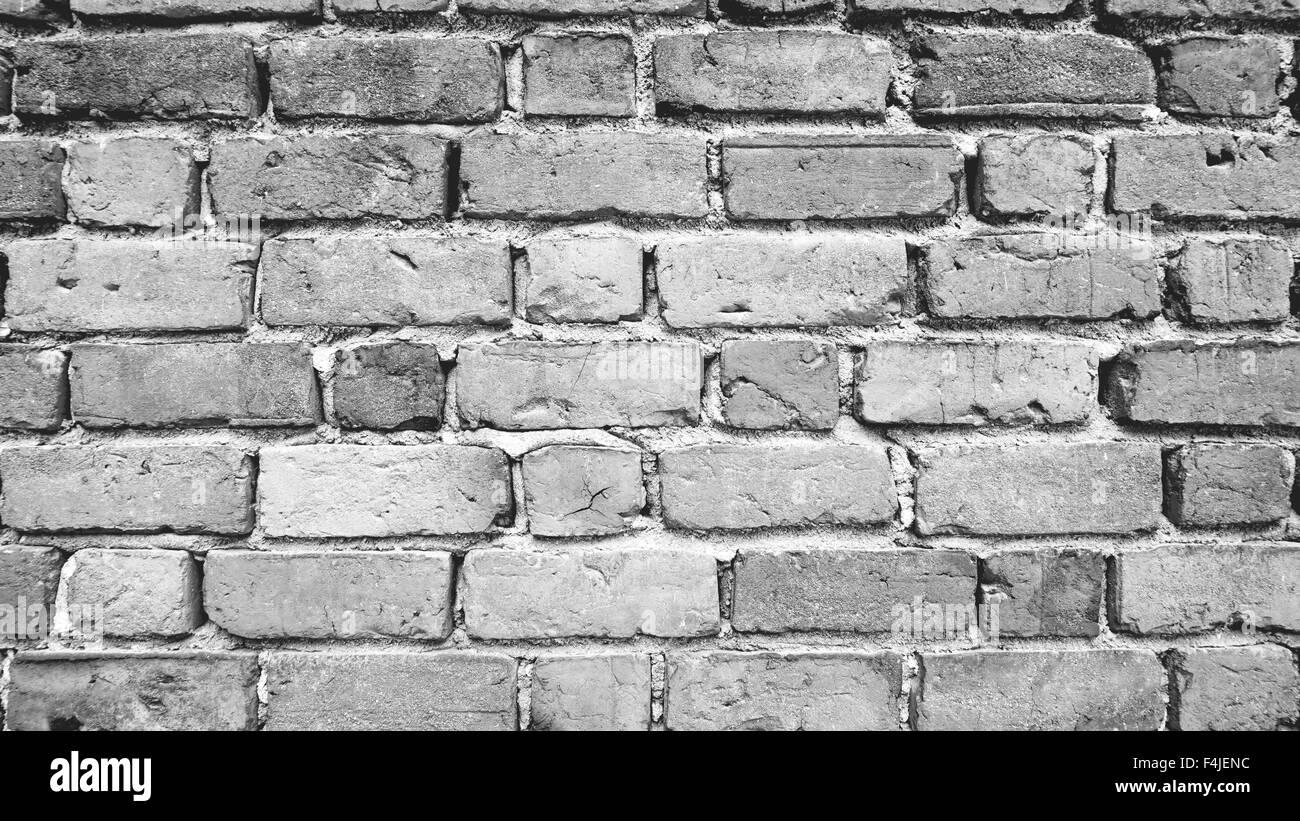Bricks: (0, 444, 251, 527), (920, 30, 1151, 117), (262, 655, 515, 733), (5, 244, 247, 325), (474, 552, 716, 632), (267, 449, 506, 529), (70, 342, 312, 420), (212, 555, 444, 636), (659, 445, 897, 523), (459, 139, 709, 213), (280, 34, 508, 114), (0, 137, 196, 230), (655, 37, 891, 114), (7, 662, 248, 737), (274, 244, 504, 321), (17, 39, 255, 113), (920, 455, 1160, 528), (920, 664, 1161, 736), (220, 142, 444, 218), (735, 562, 980, 631), (725, 144, 959, 214), (665, 249, 901, 316), (867, 344, 1084, 413), (927, 247, 1160, 310), (452, 349, 695, 409), (682, 662, 900, 728), (1115, 554, 1300, 631), (1120, 142, 1300, 217), (1127, 350, 1300, 420), (1180, 650, 1300, 736), (67, 550, 192, 631), (984, 140, 1097, 224), (527, 39, 640, 121), (524, 452, 635, 532), (329, 354, 446, 425), (994, 557, 1108, 629), (1174, 50, 1288, 121), (725, 344, 837, 416), (527, 244, 636, 317), (1182, 444, 1287, 511), (1199, 247, 1292, 316), (0, 549, 51, 633), (0, 349, 52, 424)
